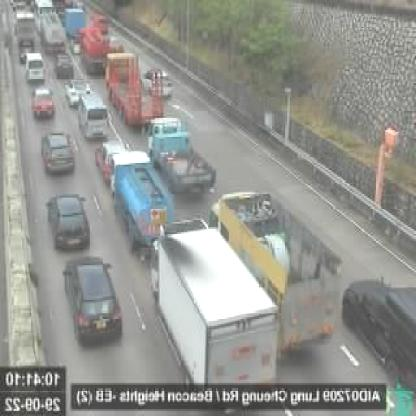Car: (341, 272, 416, 390), (61, 246, 126, 352), (45, 194, 93, 253), (39, 130, 78, 179), (80, 87, 110, 144), (92, 137, 133, 177), (65, 73, 95, 111), (143, 62, 174, 97), (31, 85, 56, 121), (23, 50, 46, 82), (52, 48, 75, 74)
Truck: (134, 213, 291, 414), (206, 187, 344, 361), (112, 149, 178, 260), (143, 113, 222, 196), (106, 48, 170, 125), (79, 22, 133, 74), (35, 0, 72, 45), (13, 7, 39, 54)
